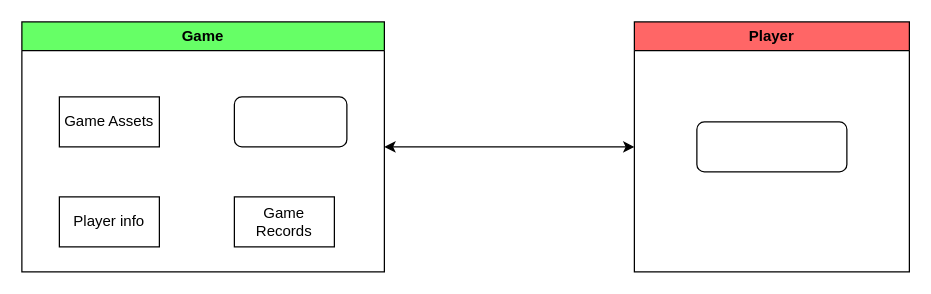
Image size: 931x294. Some labels were removed from this diagram. The shapes that lost their labels are listed below. From the top down, each one's centre as x and y in pixels, then its label:
At (290,121): "Sell Items".
At (771,146): "Purchase game items".
